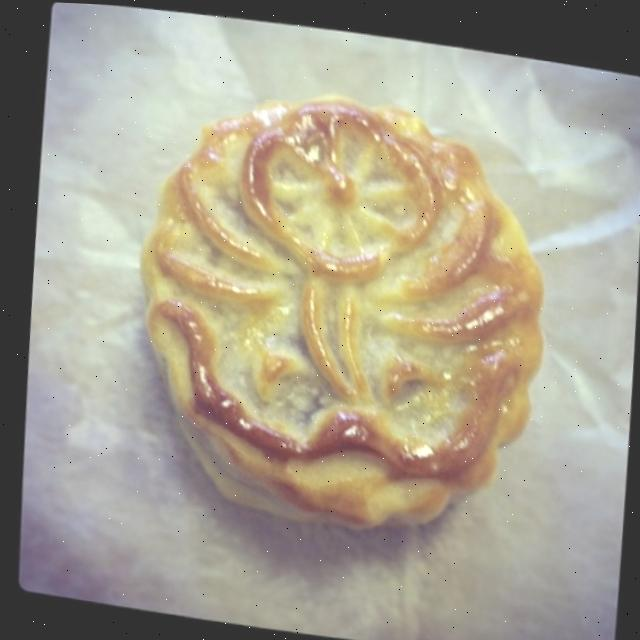蛋糕甜品: (91, 58, 574, 575)
